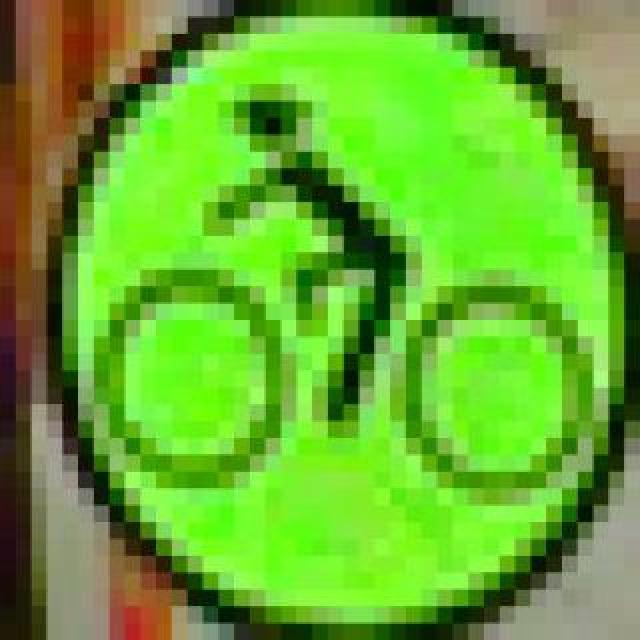bike lane: (48, 0, 610, 606)
